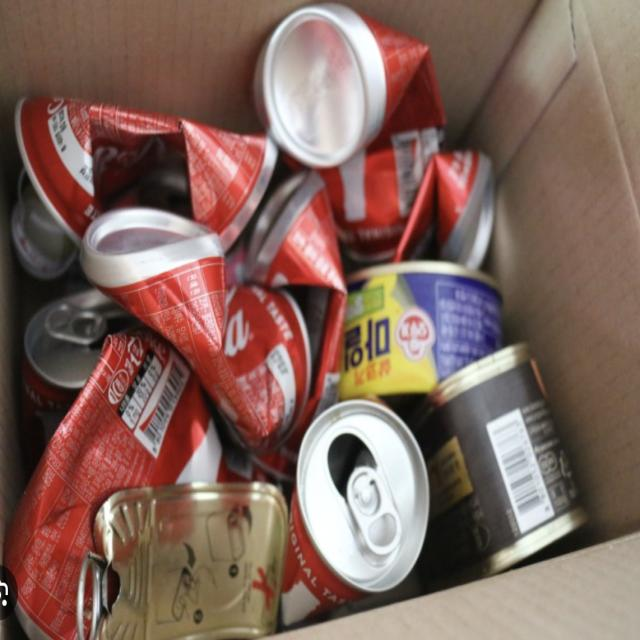recyclable: (76, 180, 319, 470), (6, 61, 282, 251), (254, 0, 455, 253), (284, 382, 446, 622), (68, 471, 294, 640), (322, 237, 522, 405)
